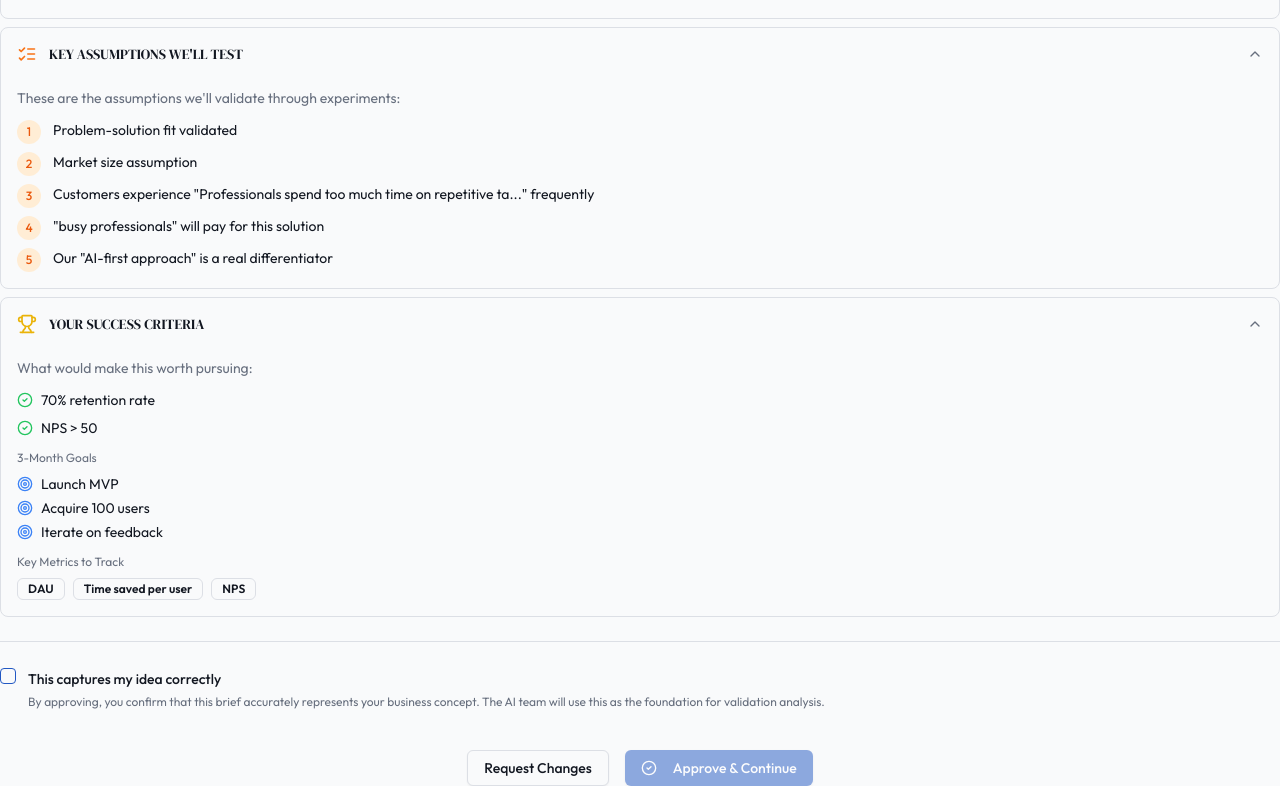
it: FoundersBriefReview › Request Changes Flow › should open feedback dialog when clicking Request Changes
The image size is (1280, 786).
(page scrolled)
Click the button "Request Changes": coordinates (538, 768) x1=467 y1=750 x2=609 y2=785
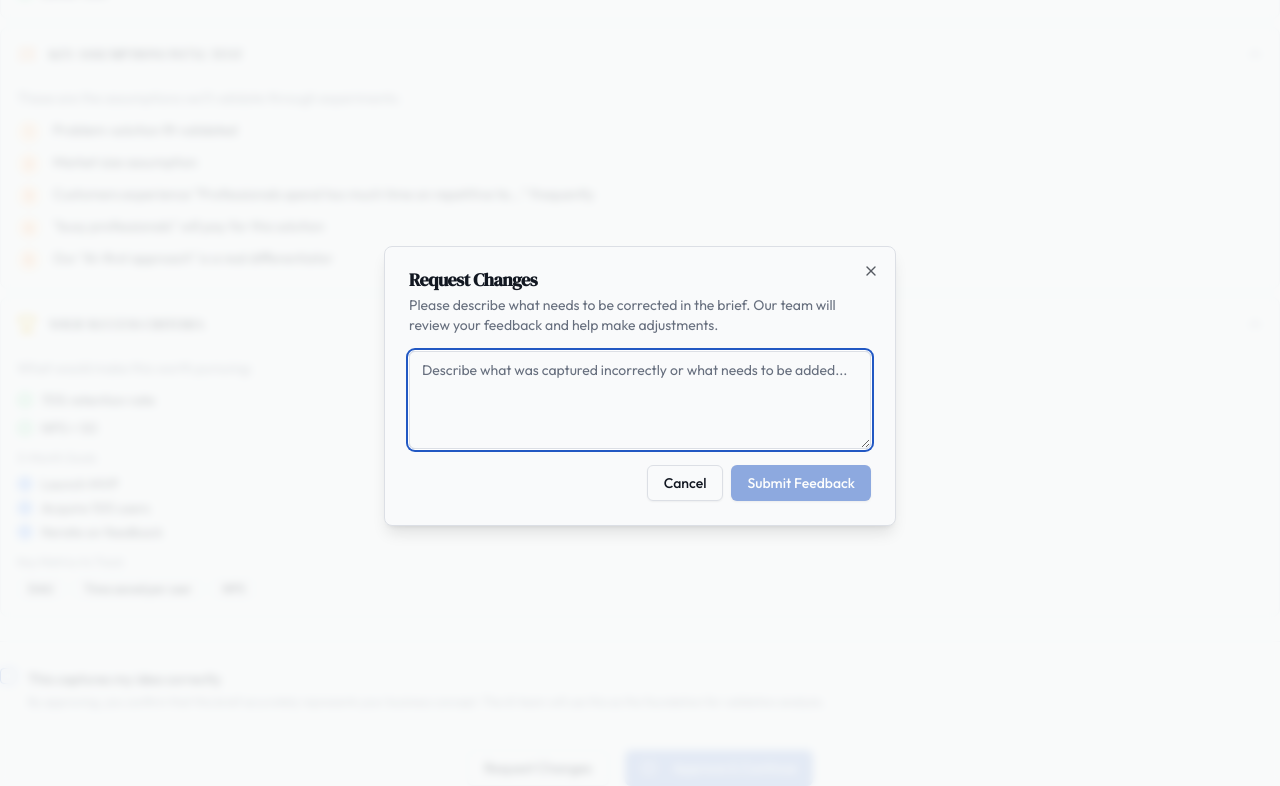
expect the dialog is shown: met, box x1=384 y1=246 x2=896 y2=526
expect the text box with placeholder "Describe what was captured incorrectly" is shown: met, box x1=409 y1=351 x2=871 y2=449
